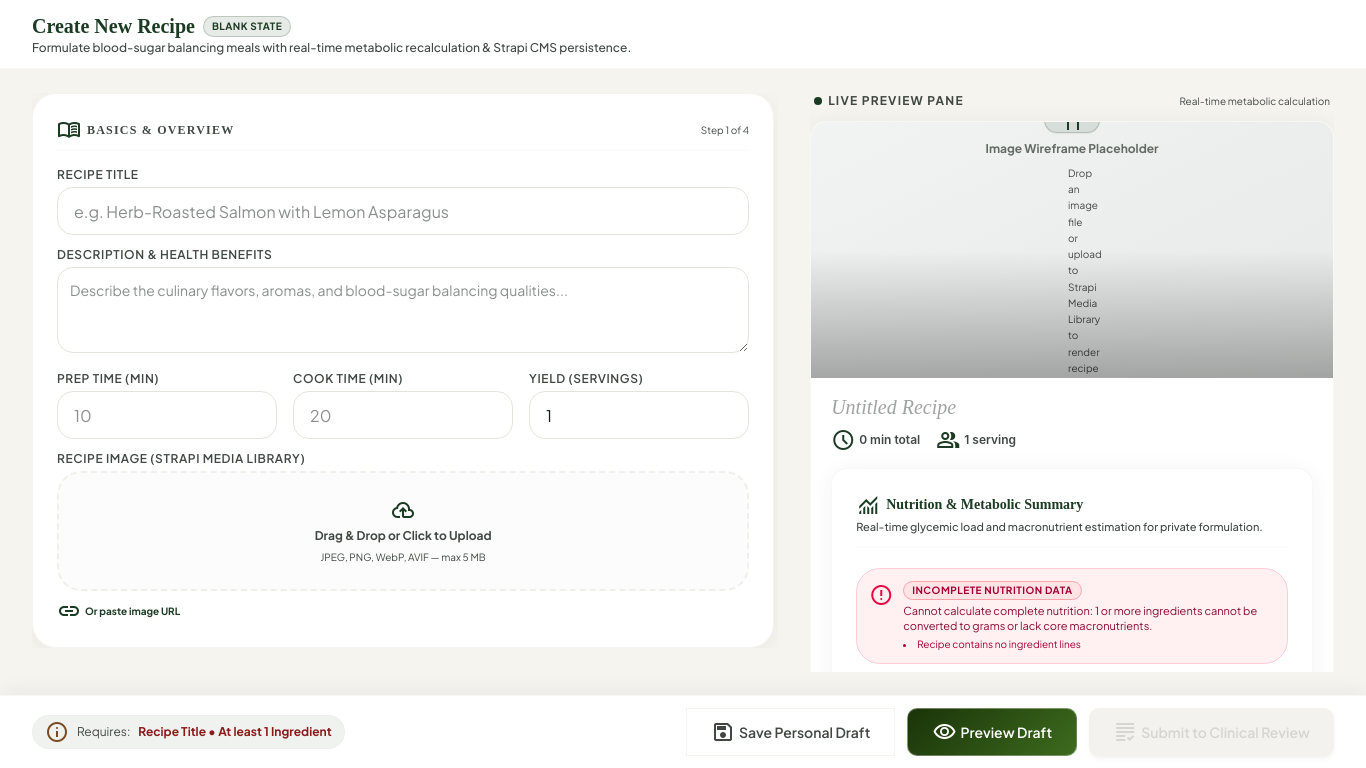
PrivateRecipeDraftLifecycle — Phase 7 / Chunk 5 › 3. Browser Session Auto-Save persists in-progress form to sessionStorage
Type "In-Flight Session Recipe" into the field labelled "Recipe Title" at (403, 211), box top-left (57, 187), bottom-right (749, 235)
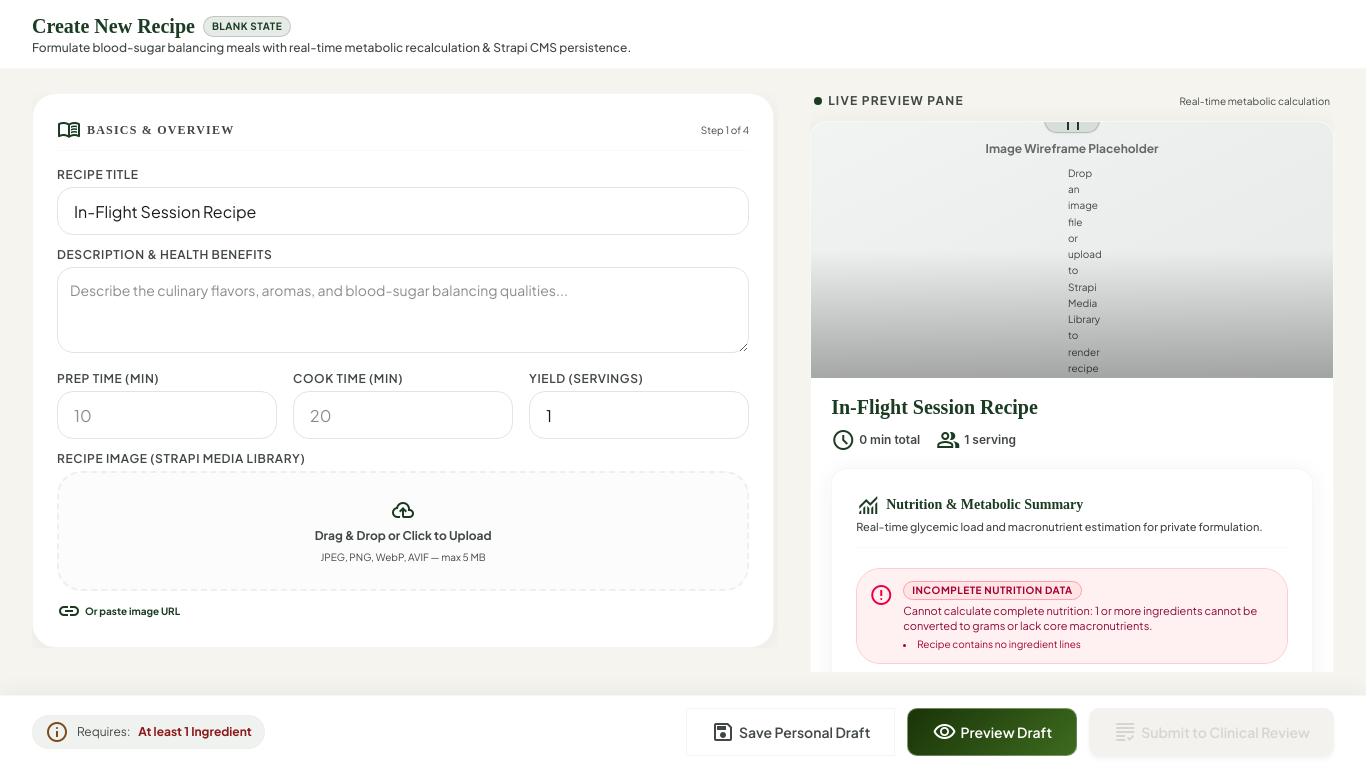
Expected: the text "In-Flight Session Recipe" is shown, top-left (831, 396), bottom-right (1038, 418)
